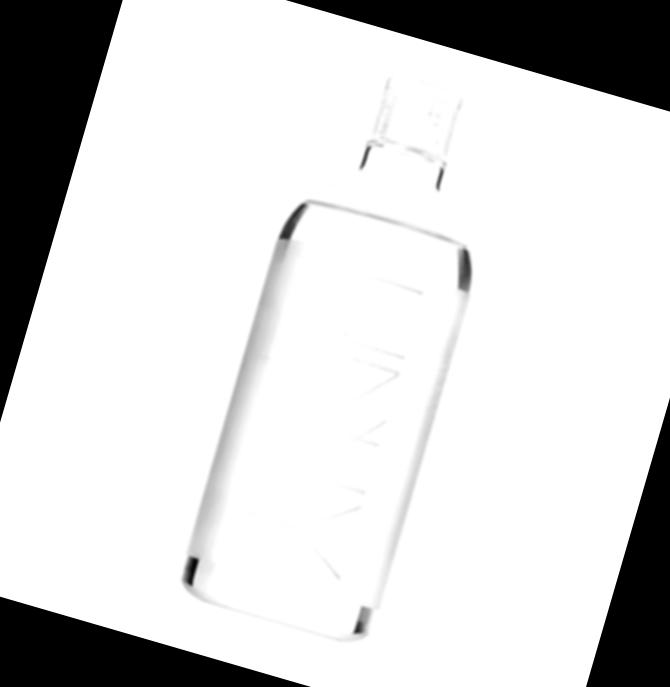cosmetic: (177, 52, 526, 646)
